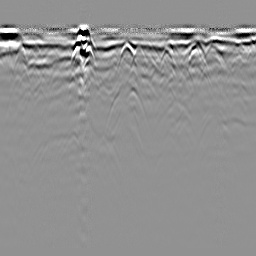cavity: (120, 37, 137, 58)
